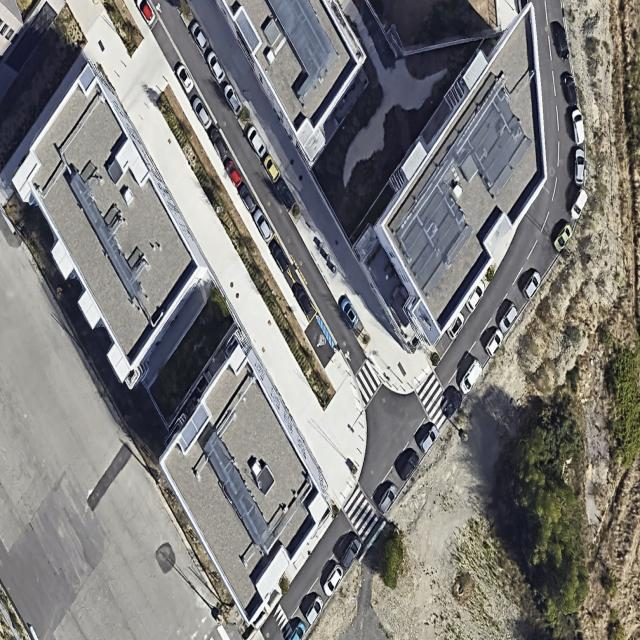immeuble: (325, 0, 623, 356), (0, 55, 242, 393), (122, 330, 369, 626), (215, 0, 401, 173)
